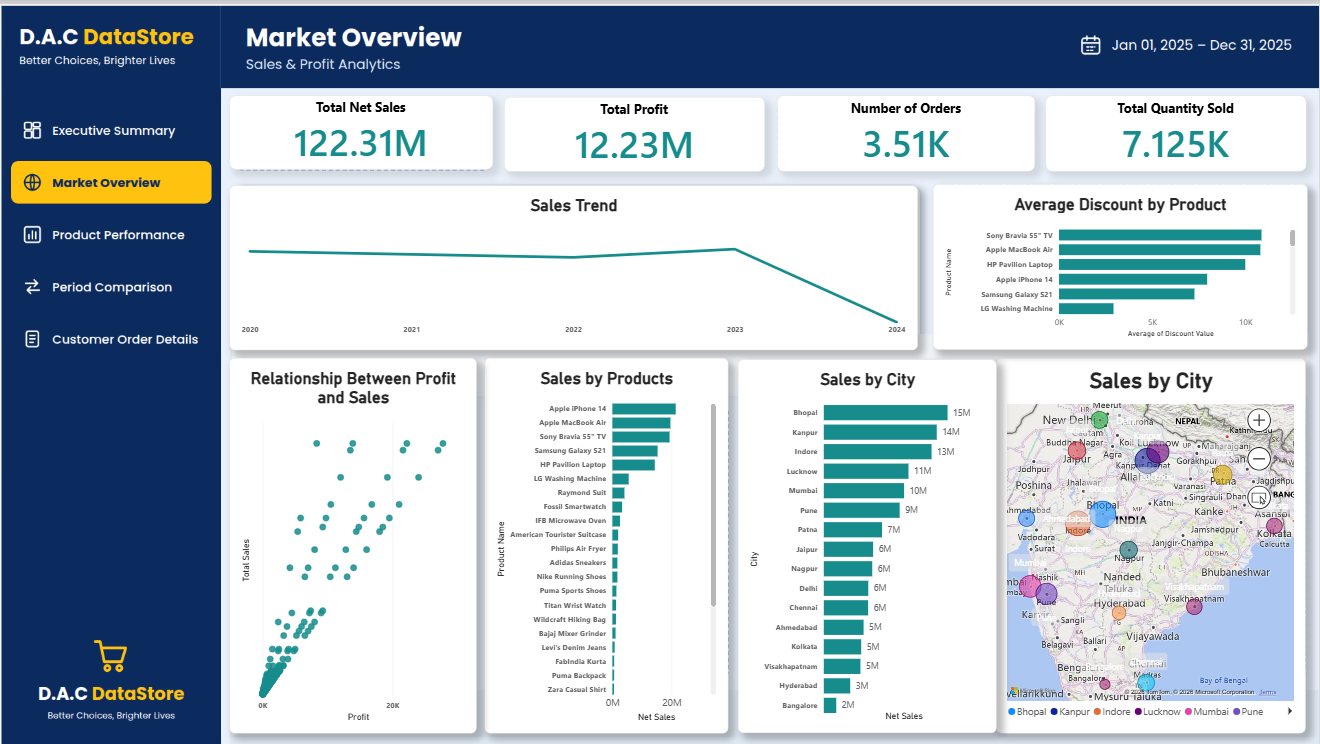

The page's visual inventory and layout, read from the dashboard file:
{"tool":"powerbi","page":{"name":"Market Overview","canvas":[1920,1080],"ordinal":1},"visuals":[{"type":"image","box":[10,0,1910,1080],"z":0},{"type":"cardVisual","fields":{"Data":["Calendar.Total Quantity Sold"]},"box":[1524,132,378,110],"z":1000},{"type":"cardVisual","fields":{"Data":["CountNonNull(Fact Table.Order ID)"]},"box":[1134,132,374,110],"z":2000},{"type":"cardVisual","fields":{"Data":["Calendar.Total Profit"]},"box":[740,134,378,108],"z":3000},{"type":"cardVisual","fields":{"Data":["Calendar.Total Sales"]},"box":[341.2,133.6,381.7,107.4],"z":4000},{"type":"shape","box":[341.2,992.5,1579.5,88.3],"z":5000},{"type":"shape","box":[346,478,1560,90],"z":5500},{"type":"lineChart","title":"Sales Trend","fields":{"Category":["Calendar.Date Hierarchy.Year","Calendar.Date Hierarchy.Quarter","Calendar.Date Hierarchy.Month","Calendar.Date Hierarchy.Day"],"Y":["Sum(Fact Table.Net Sales )"]},"box":[341.2,262.5,997.3,238.6],"z":6000},{"type":"map","title":"Sales  by City","fields":{"Category":["Dim Customers.City"],"Series":["Dim Customers.City"],"Size":["Sum(Fact Table.Net Sales )"]},"box":[1453,513,448.6,544],"z":7000},{"type":"clusteredBarChart","title":"Sales by Products ","fields":{"Category":["Dim Product.Product Name"],"Y":["Sum(Fact Table.Net Sales )"]},"box":[711,513,353.1,544],"z":8000},{"type":"clusteredBarChart","title":"Average Discount by Product","fields":{"Category":["Dim Product.Product Name"],"Y":["Avg(Fact Table.Discount Value )"]},"box":[1360,260,542.5,240],"z":9000},{"type":"scatterChart","title":"Relationship Between Profit and Sales","fields":{"X":["Fact Table.Profit"],"Y":["Fact Table.Total Sales"]},"box":[341.2,513,357.9,544],"z":10000},{"type":"clusteredBarChart","title":"Sales  by City","fields":{"Category":["Dim Customers.City"],"Y":["Sum(Fact Table.Net Sales )"]},"box":[1078.4,515.4,374.6,541.6],"z":11000}]}

Visuals, with their boxes on the page's 1920x1080 design canvas (x1, y1, x2, y2). These are canvas units, not pixel positions in the 1320x744 screenshot, which may show the page scaled, cropped or inside an application window:
image: {"left": 10, "top": 0, "right": 1920, "bottom": 1080}
cardVisual - Calendar.Total Quantity Sold: {"left": 1524, "top": 132, "right": 1902, "bottom": 242}
cardVisual - CountNonNull(Fact Table.Order ID): {"left": 1134, "top": 132, "right": 1508, "bottom": 242}
cardVisual - Calendar.Total Profit: {"left": 740, "top": 134, "right": 1118, "bottom": 242}
cardVisual - Calendar.Total Sales: {"left": 341, "top": 134, "right": 723, "bottom": 241}
shape: {"left": 341, "top": 992, "right": 1921, "bottom": 1081}
shape: {"left": 346, "top": 478, "right": 1906, "bottom": 568}
"Sales Trend" lineChart: {"left": 341, "top": 262, "right": 1338, "bottom": 501}
"Sales  by City" map: {"left": 1453, "top": 513, "right": 1902, "bottom": 1057}
"Sales by Products " clusteredBarChart: {"left": 711, "top": 513, "right": 1064, "bottom": 1057}
"Average Discount by Product" clusteredBarChart: {"left": 1360, "top": 260, "right": 1902, "bottom": 500}
"Relationship Between Profit and Sales" scatterChart: {"left": 341, "top": 513, "right": 699, "bottom": 1057}
"Sales  by City" clusteredBarChart: {"left": 1078, "top": 515, "right": 1453, "bottom": 1057}
